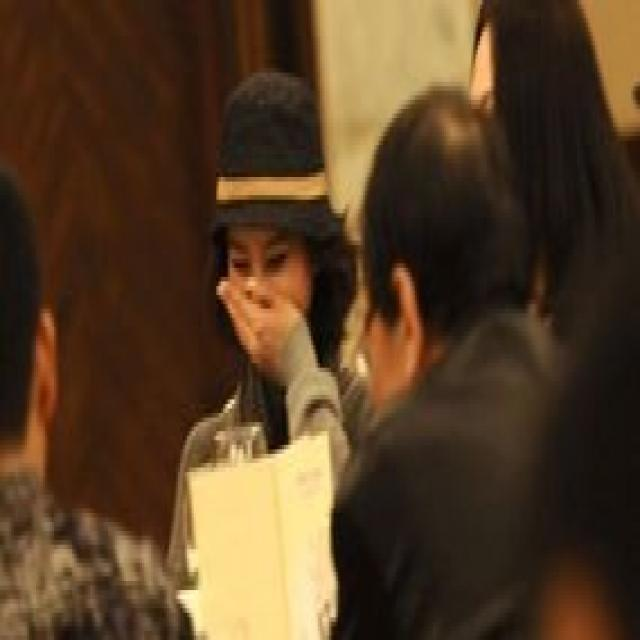nomask: (226, 220, 306, 370)
